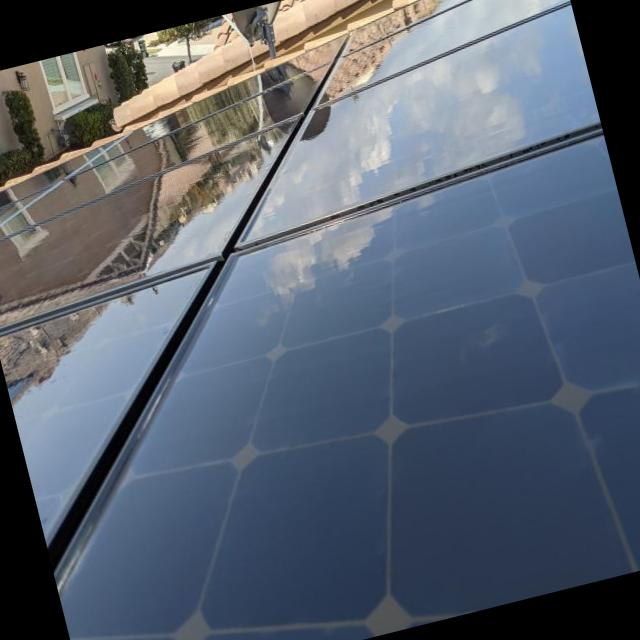no faulty: (56, 139, 640, 640), (248, 12, 593, 245), (0, 115, 298, 320), (0, 58, 333, 234), (0, 274, 195, 544), (324, 0, 569, 102)
